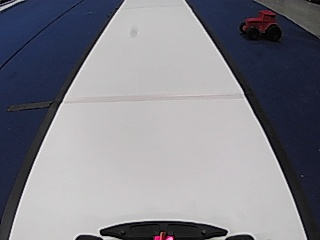tractor: (240, 9, 280, 41)
